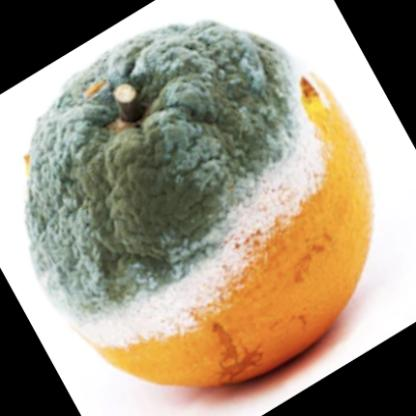rotten: (27, 23, 372, 389)
